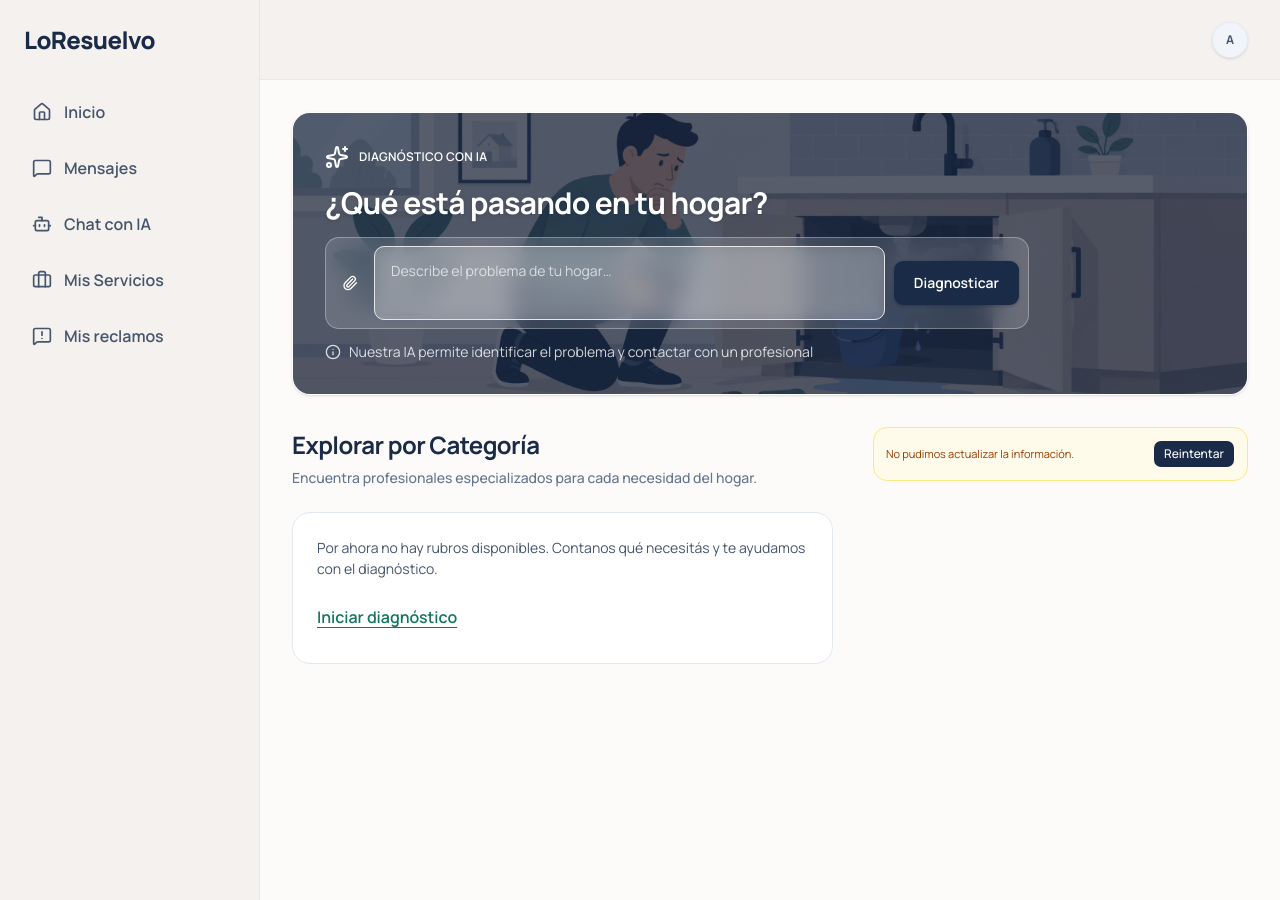
ConsumerHome › recovers from an initial proposals load failure without presenting it as an empty list
Expected: the message shows "No pudimos actualizar la información.", [886,446,1074,461]
Expected: the text "No tenés propuestas pendientes" is not shown
Click the button "Reintentar": [1194, 454] box [1153,440,1235,468]
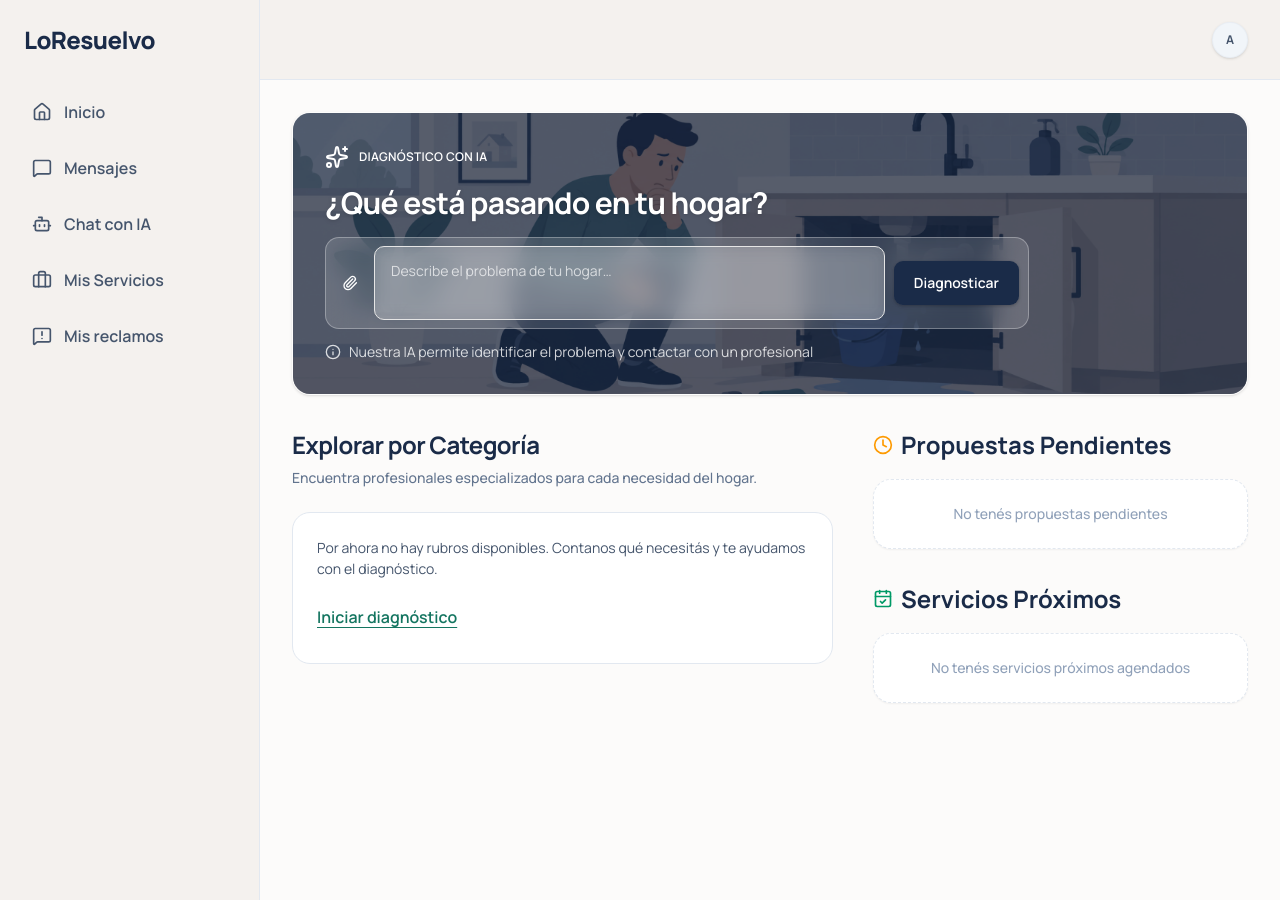
Now the text "No tenés propuestas pendientes" is shown, box [953,504,1168,523]
Now the message "No pudimos actualizar la información. Reintentar" is gone
